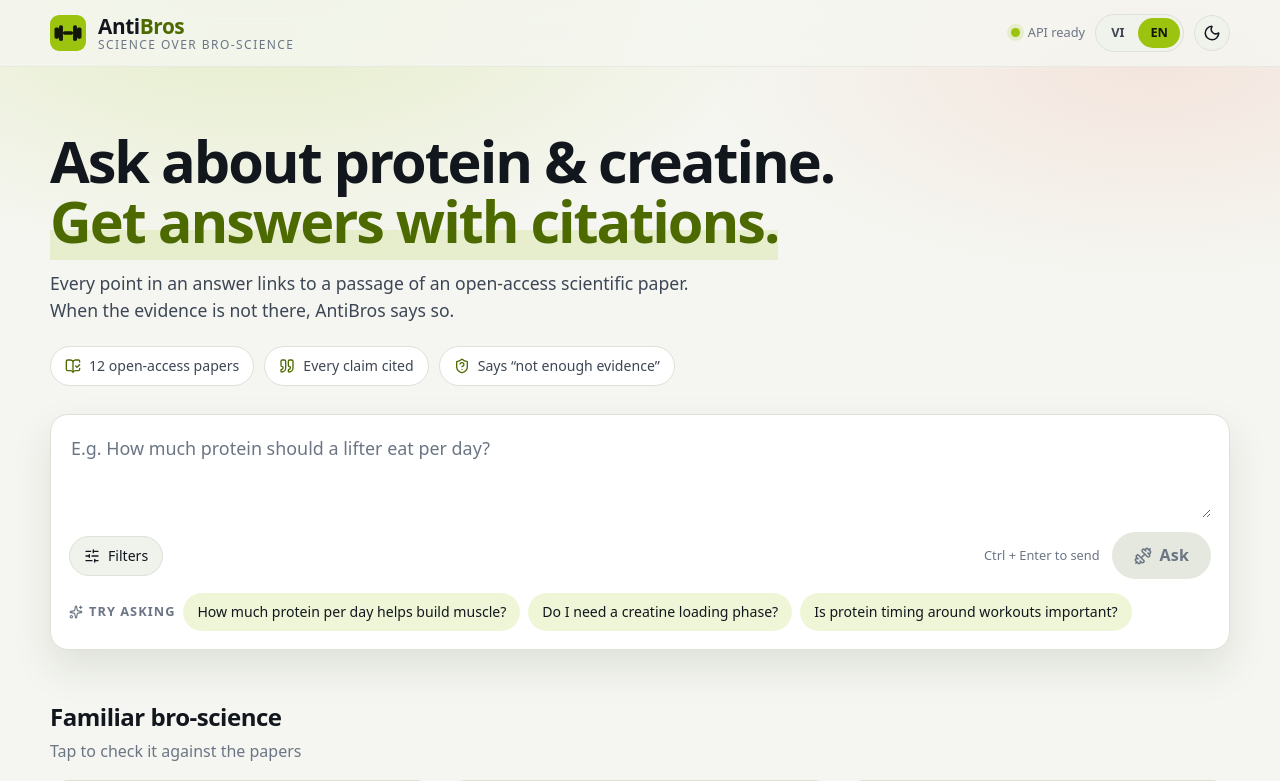
App › switches the interface language
The image size is (1280, 781).
Step 1. Click the button "VI" → (1118, 33), box x1=1099 y1=18 x2=1136 y2=48
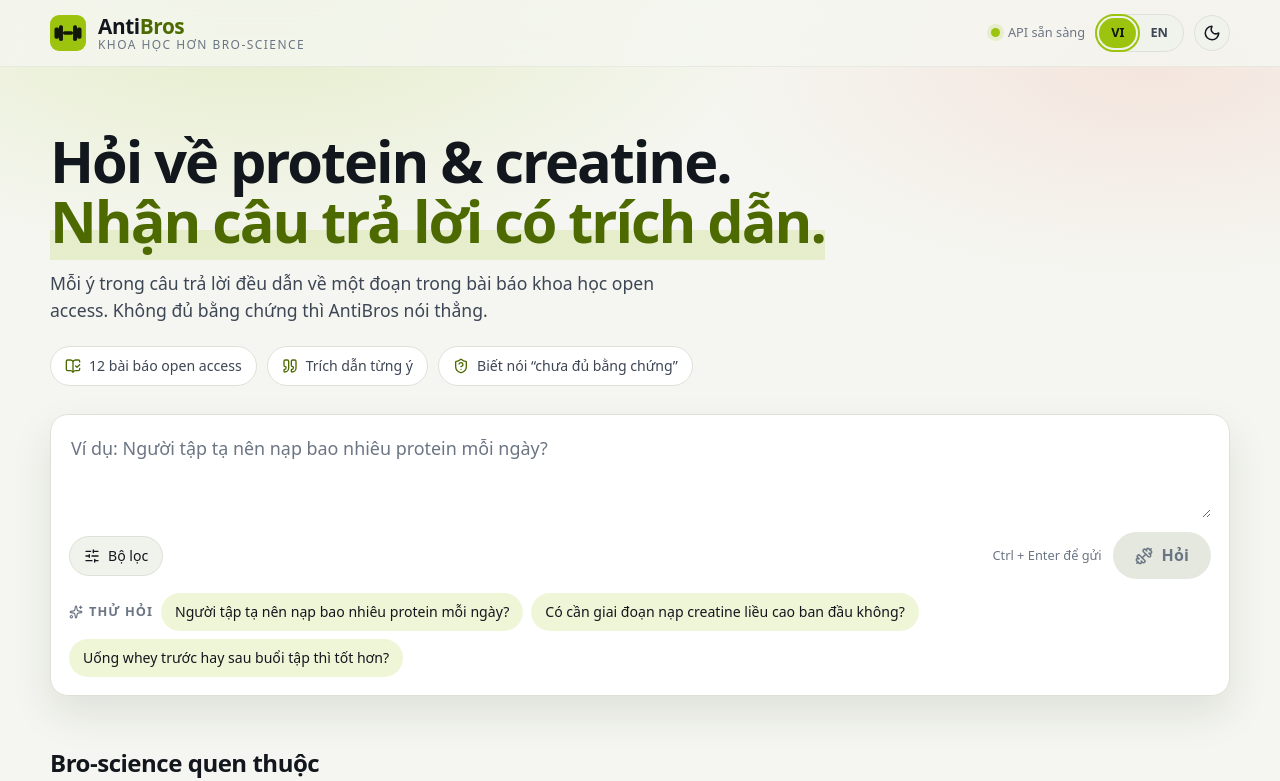
expect the button "Hỏi" is shown: met, box x1=1114 y1=532 x2=1211 y2=579
